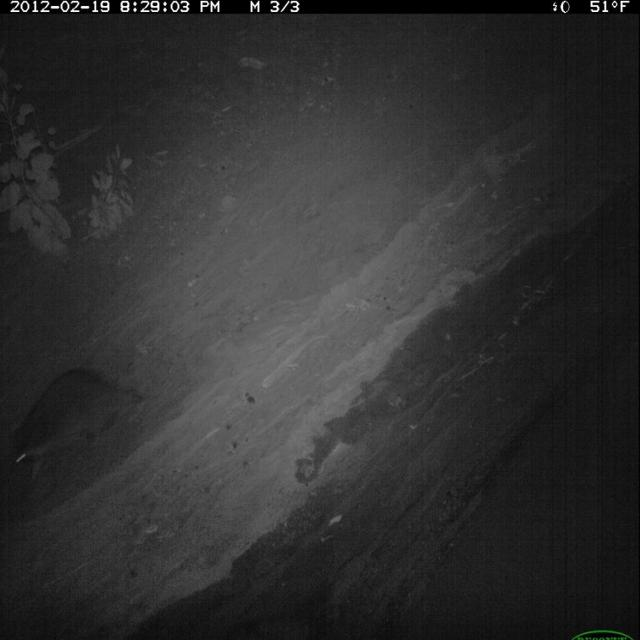raccoon: (8, 360, 148, 493)
